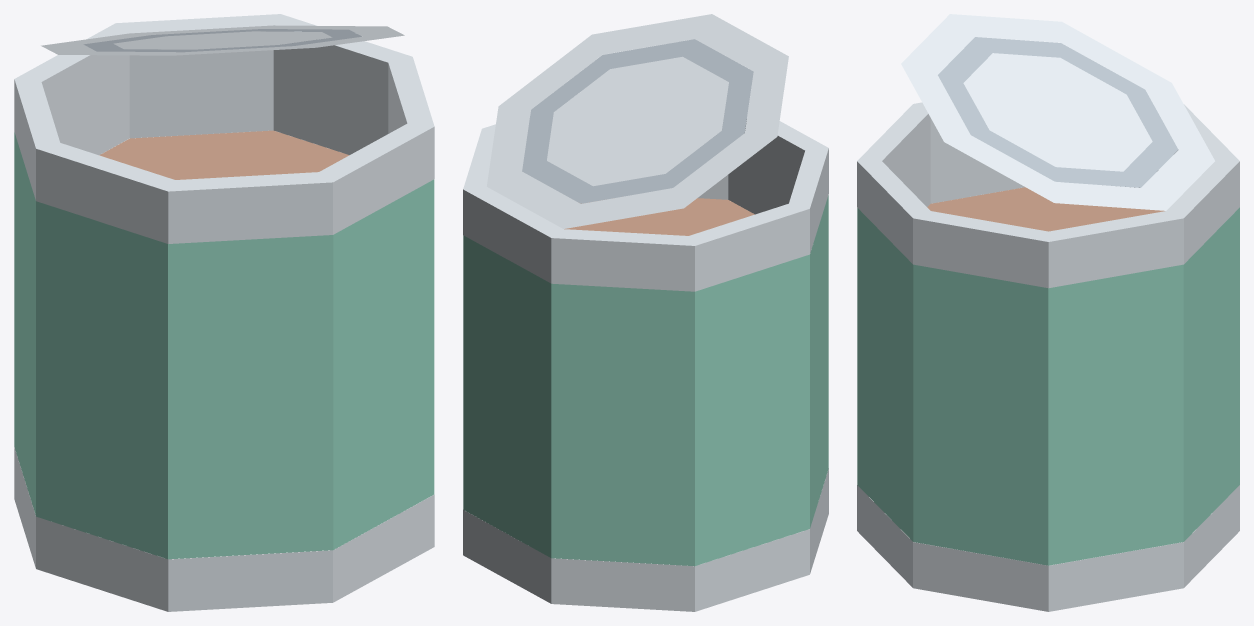
3 renders of one model, left to right at view 1: azimuth 30°, elevation 25°; view 2: azimuth 150°, elevation 25°; view 3: azimuth 270°, elevation 25°, orthographic. The views are drawn at different scales.
Parts seen in each view (by area): view 1: canOpen; view 2: canOpen; view 3: canOpen.
Boxes of the visible parts, box(x1,y1,x2,y2) form: canOpen: box(14, 14, 434, 611); canOpen: box(463, 14, 828, 611); canOpen: box(857, 14, 1239, 611).
Bounding box in the file's own units: 0.3001 × 0.4071 × 0.3001.
